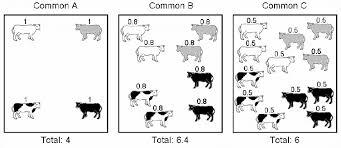cow: (11, 23, 41, 42), (238, 22, 268, 41), (265, 55, 295, 74), (255, 112, 286, 130), (120, 24, 150, 42), (135, 44, 165, 62), (143, 110, 173, 128), (237, 45, 267, 63), (235, 70, 265, 88), (306, 21, 334, 40), (306, 109, 334, 128), (12, 102, 41, 120), (74, 101, 103, 119), (129, 89, 158, 107), (235, 95, 264, 113), (306, 86, 335, 104), (191, 23, 218, 42), (74, 23, 102, 41), (186, 71, 214, 89), (281, 91, 309, 109), (176, 45, 203, 63), (188, 104, 215, 122), (279, 32, 306, 50), (303, 53, 329, 71)
